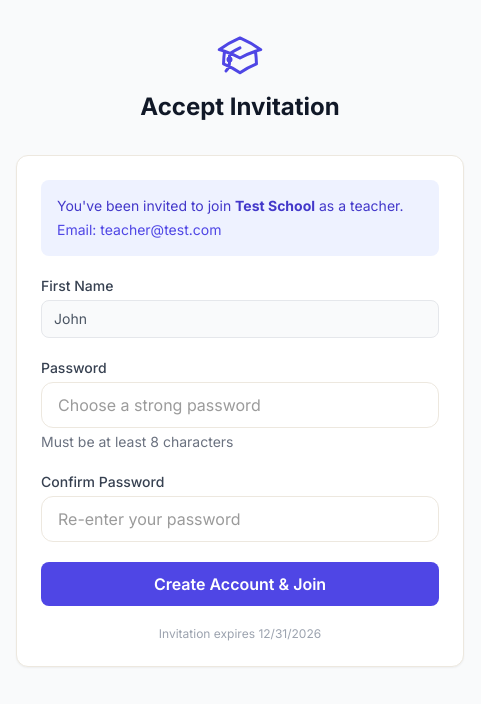
Test: AcceptInvitationPage › submission error › shows joined details error when response has details array
expect the text "Test School" is shown: met, box [235,197,315,214]
Type "StrongPass123!" into the password field with placeholder "Choose a strong password" at (240, 405), box [41,382,439,428]
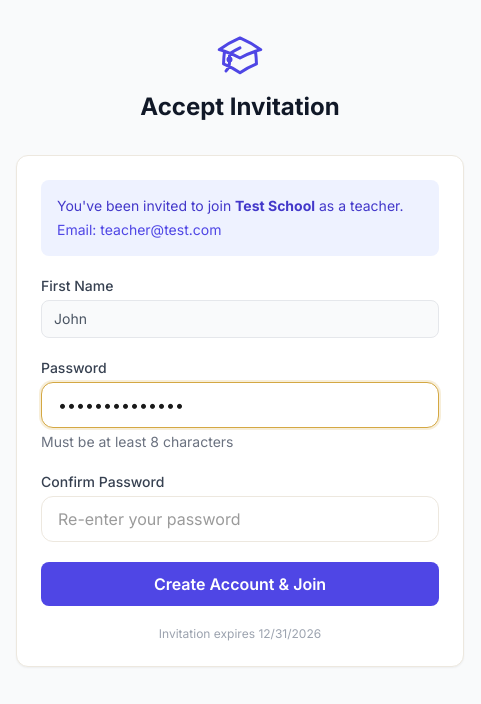
Type "StrongPass123!" into the password field with placeholder "Re-enter your password" at (240, 519), box [41,496,439,542]
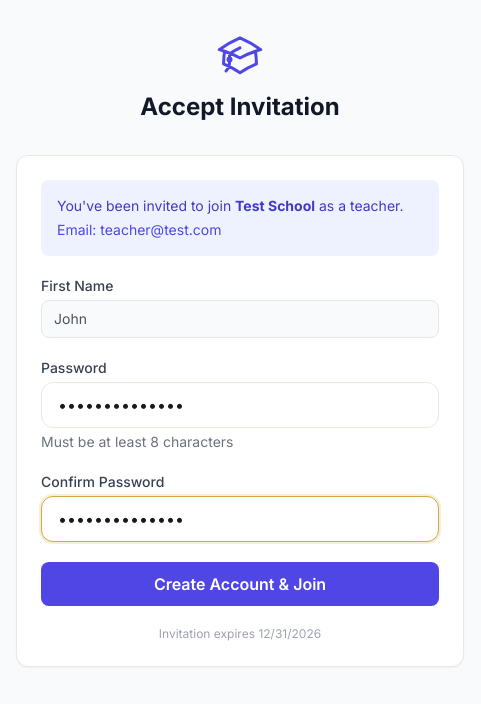
Click the button "Create Account & Join" at (240, 584), box [41,562,439,606]
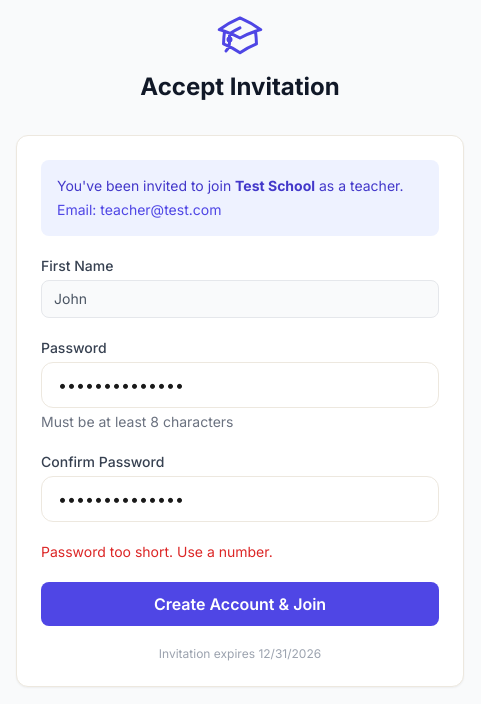
expect the text "Password too short. Use a number." is shown: met, box [41,543,273,560]
